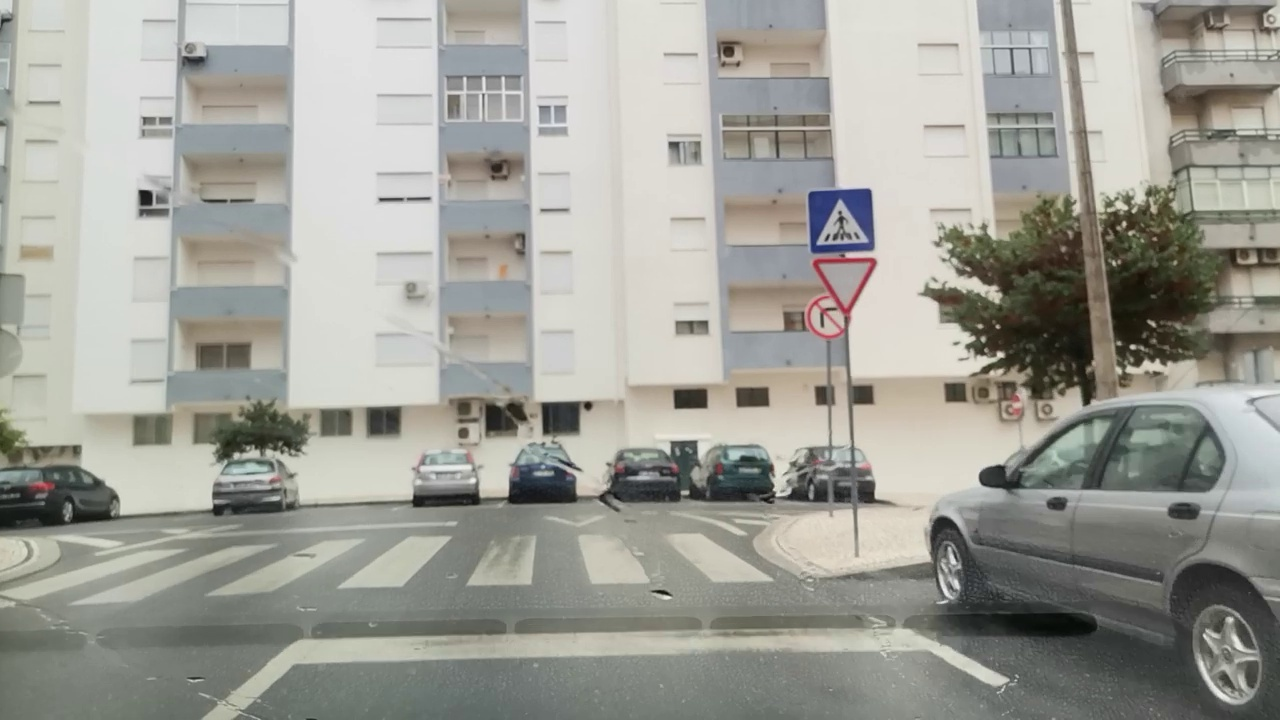Stairs: (0, 535, 777, 605)
